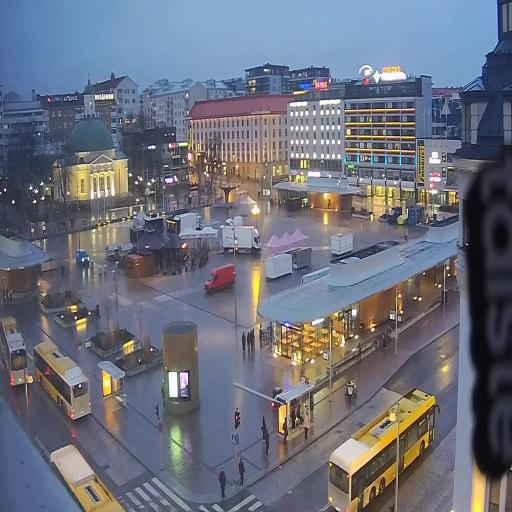bus: (318, 379, 441, 512), (44, 440, 128, 512), (32, 335, 96, 425), (0, 311, 34, 397)
delivery: (199, 259, 242, 299), (220, 223, 266, 258), (172, 207, 206, 236), (73, 246, 93, 272), (222, 214, 246, 233)
